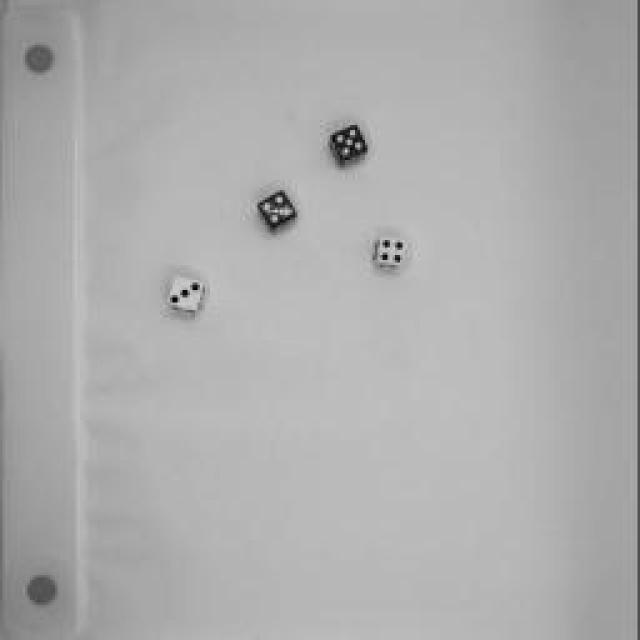dice_3: (165, 268, 210, 322)
dice_4: (252, 187, 302, 235), (370, 232, 415, 272)
dice_5: (324, 118, 376, 172)
